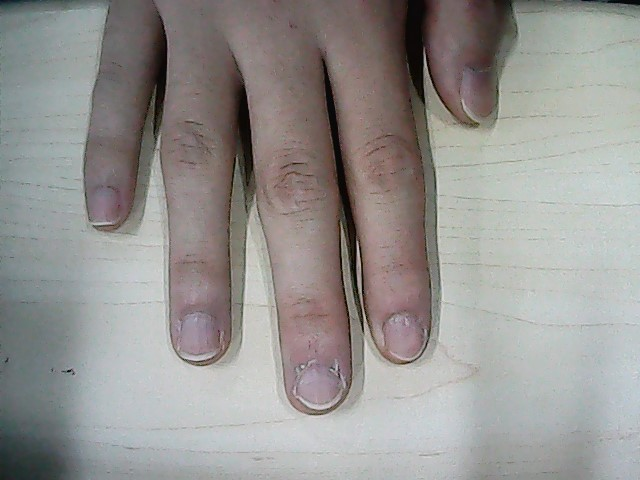nail: (461, 65, 499, 127), (297, 366, 343, 412), (383, 316, 426, 360), (180, 318, 220, 361), (91, 190, 119, 226)
